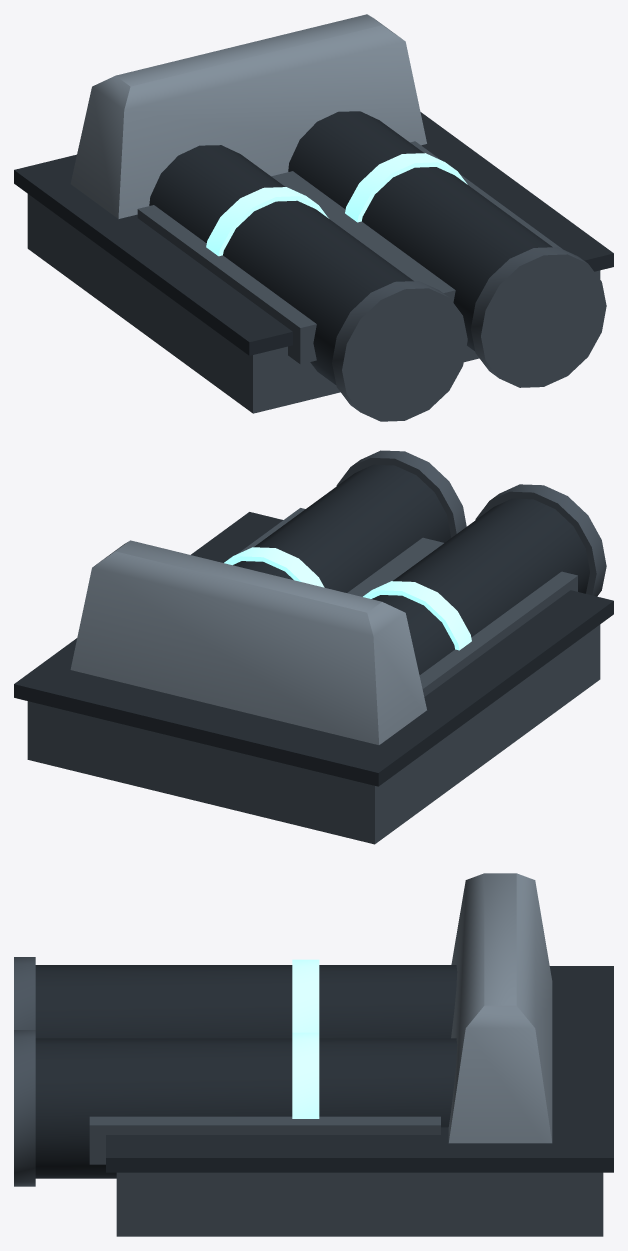
Rendered from arena_weapon_torpedo.glb.
The picture shows the model from 3 angles, top to bottom: view 1: azimuth 30°, elevation 25°; view 2: azimuth 150°, elevation 25°; view 3: azimuth 270°, elevation 25°; orthographic projection. The views are drawn at different scales.
Visible parts, largest first — view 1: shield, tube_0_body, tube_1_body, base_rail, base, tube_1_cap, tube_0_cap, cradle, tube_0_band, tube_1_band; view 2: shield, base, base_rail, tube_0_body, tube_1_body, cradle, tube_0_cap, tube_1_cap, tube_0_band, tube_1_band; view 3: tube_1_body, base, tube_0_body, base_rail, shield, cradle, tube_1_cap, tube_1_band, tube_0_band, tube_0_cap.
Boxes of the visible parts, box(x1,y1,x2,y2) form: shield: box(70, 14, 426, 218); tube_0_body: box(149, 145, 413, 384); tube_1_body: box(288, 111, 552, 351); base_rail: box(14, 112, 613, 355); base: box(27, 194, 600, 413); tube_1_cap: box(471, 247, 606, 387); tube_0_cap: box(332, 281, 467, 421); cradle: box(137, 141, 561, 364); tube_0_band: box(206, 187, 328, 256); tube_1_band: box(345, 153, 467, 222); shield: box(70, 540, 426, 744); base: box(27, 624, 600, 844); base_rail: box(14, 512, 613, 786); tube_0_body: box(371, 498, 589, 675); tube_1_body: box(233, 464, 450, 592); cradle: box(237, 508, 577, 696); tube_0_cap: box(475, 484, 606, 596); tube_1_cap: box(336, 450, 466, 537); tube_0_band: box(363, 581, 471, 650); tube_1_band: box(224, 547, 324, 587); tube_1_body: box(35, 1038, 457, 1178); base: box(116, 1172, 603, 1236); tube_0_body: box(35, 965, 457, 1038); base_rail: box(106, 966, 613, 1172); shield: box(448, 873, 552, 1143); cradle: box(89, 1116, 440, 1164); tube_1_cap: box(14, 1030, 35, 1186); tube_1_band: box(292, 1032, 319, 1118); tube_0_band: box(292, 959, 319, 1032); tube_0_cap: box(14, 957, 35, 1029).
Bounding box in the file's own units: 8.4 × 4.2 × 11.1.
